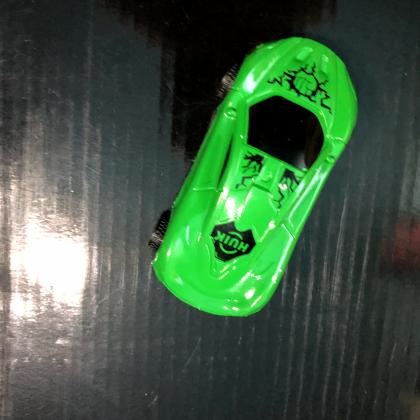Car: (146, 32, 362, 320)
